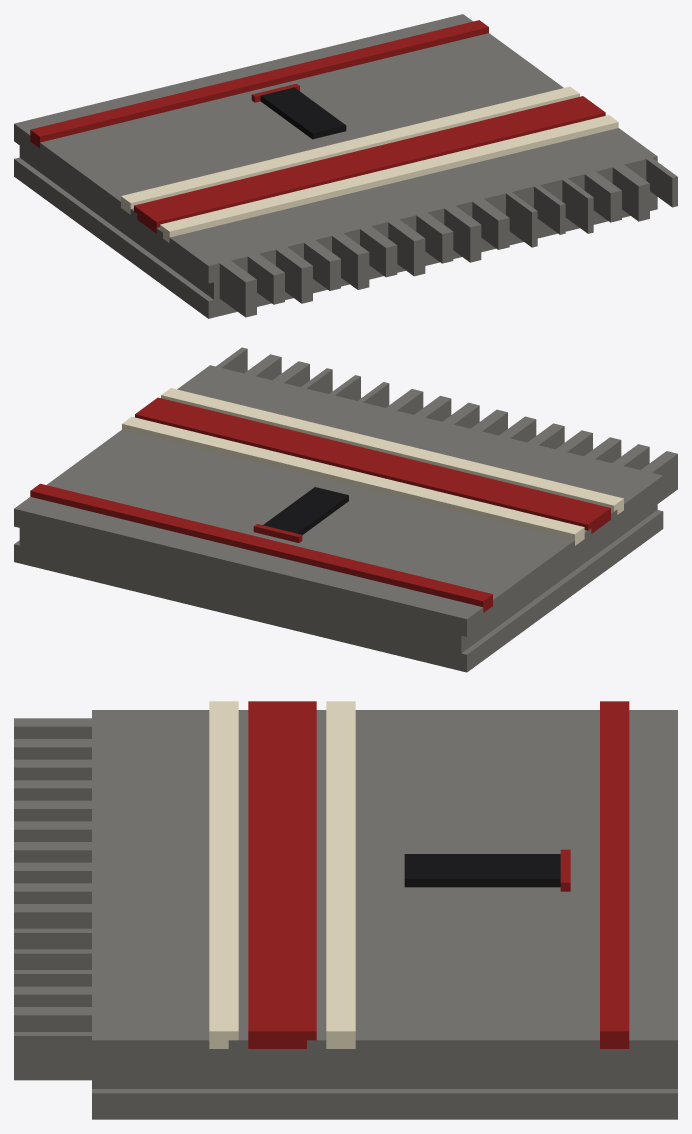
The model's file is poncho.glb.
The picture shows the model from 3 angles, top to bottom: view 1: azimuth 30°, elevation 25°; view 2: azimuth 150°, elevation 25°; view 3: azimuth 270°, elevation 25°; orthographic projection. The views are drawn at different scales.
Parts seen in each view (by area): view 1: poncho:compound; view 2: poncho:compound; view 3: poncho:compound.
Part boxes in pixels (bbox=[...]): poncho:compound: bbox=[14, 14, 677, 318]; poncho:compound: bbox=[14, 347, 677, 672]; poncho:compound: bbox=[14, 701, 677, 1119].
Bounding box in the file's own units: 0.32 × 0.04 × 0.272.
